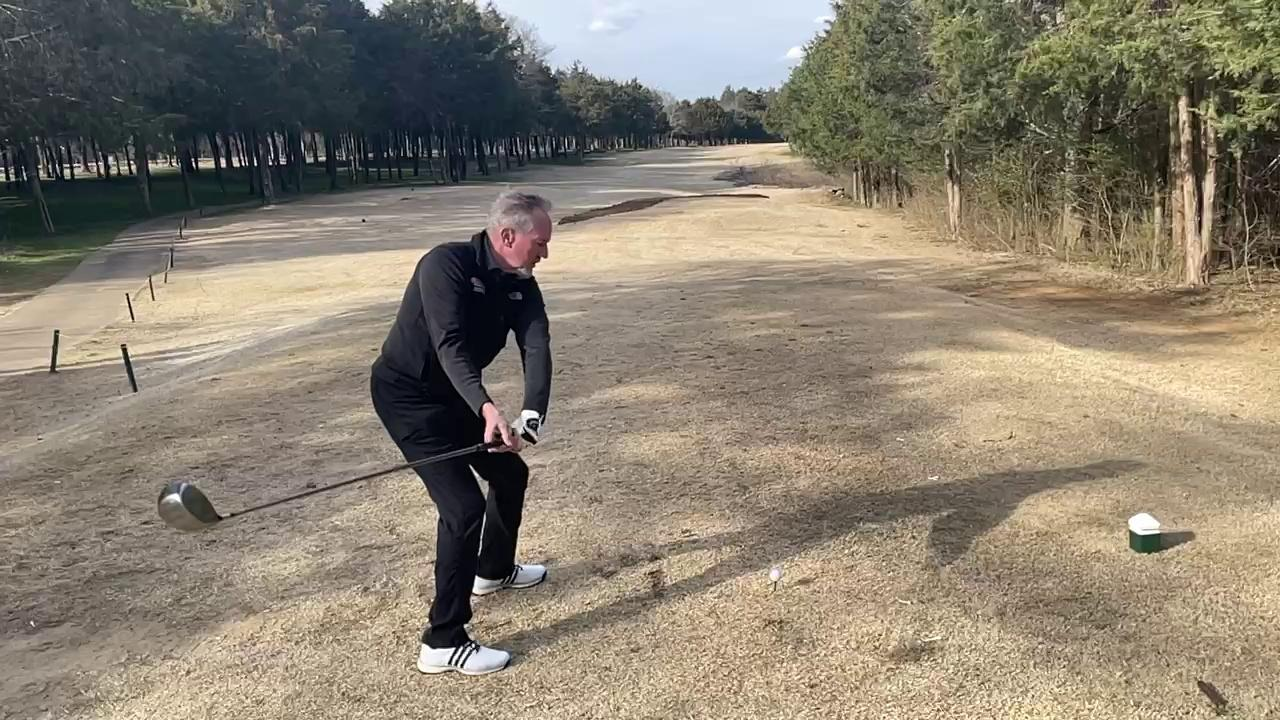ClubHead: (147, 475, 230, 536)
GolfBall: (767, 567, 784, 585)
